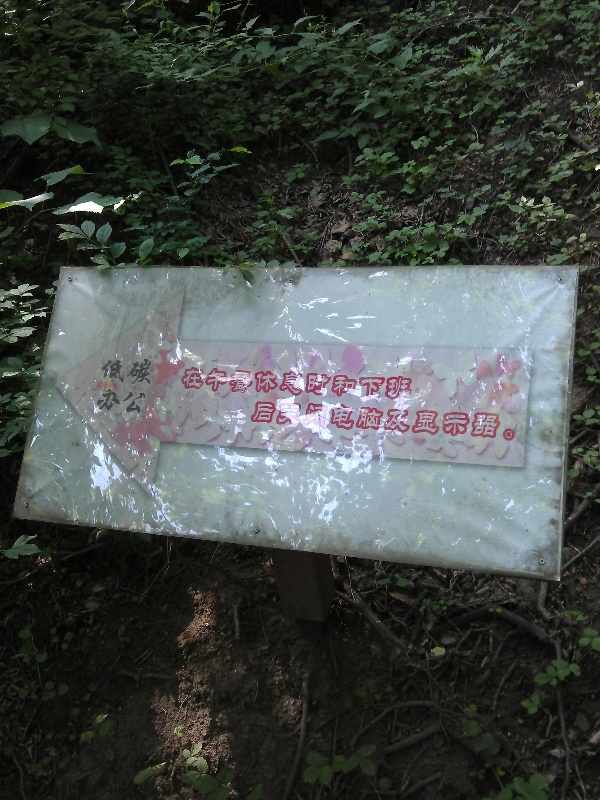text: (257, 400, 272, 441), (273, 400, 288, 441), (289, 400, 304, 441), (305, 400, 320, 441), (321, 400, 336, 441), (337, 400, 352, 441), (353, 400, 368, 441), (369, 400, 384, 441), (385, 400, 400, 441), (401, 400, 416, 441), (417, 400, 432, 441), (433, 400, 448, 441), (449, 400, 464, 441), (465, 400, 480, 441), (481, 400, 496, 441), (497, 400, 512, 441), (193, 366, 208, 402), (209, 366, 224, 402), (225, 366, 240, 402), (241, 366, 256, 402), (257, 366, 272, 402), (273, 366, 288, 402), (289, 366, 304, 402), (305, 366, 320, 402), (321, 366, 336, 402), (337, 366, 352, 402), (353, 366, 368, 402), (369, 366, 384, 402), (385, 366, 400, 402), (401, 366, 413, 402), (113, 359, 128, 386), (129, 359, 144, 386), (113, 388, 128, 414), (129, 388, 144, 414), (182, 366, 192, 402), (100, 388, 112, 414), (103, 359, 112, 386), (145, 359, 153, 386), (251, 400, 256, 441), (513, 400, 515, 441), (145, 388, 147, 414)
